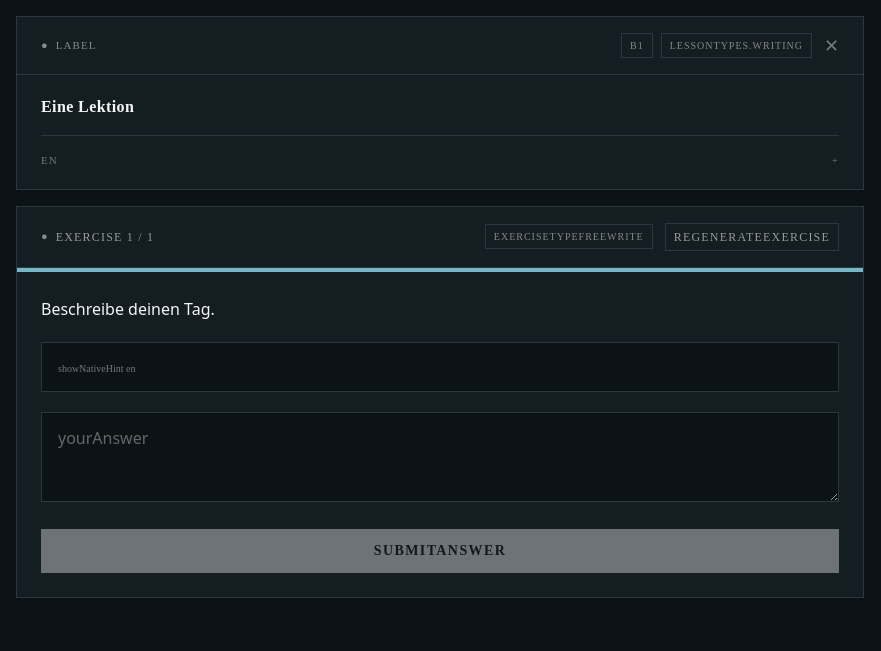
Test: LessonPage lesson loading and answer flow › shows regeneration errors and replaces the exercise after a retry succeeds
Expected: the text "Beschreibe deinen Tag." is shown, x1=41 y1=298 x2=215 y2=320
Type "Meine Antwort" into the text box with placeholder "yourAnswer" at x=440, y=456, box x1=41 y1=412 x2=839 y2=502
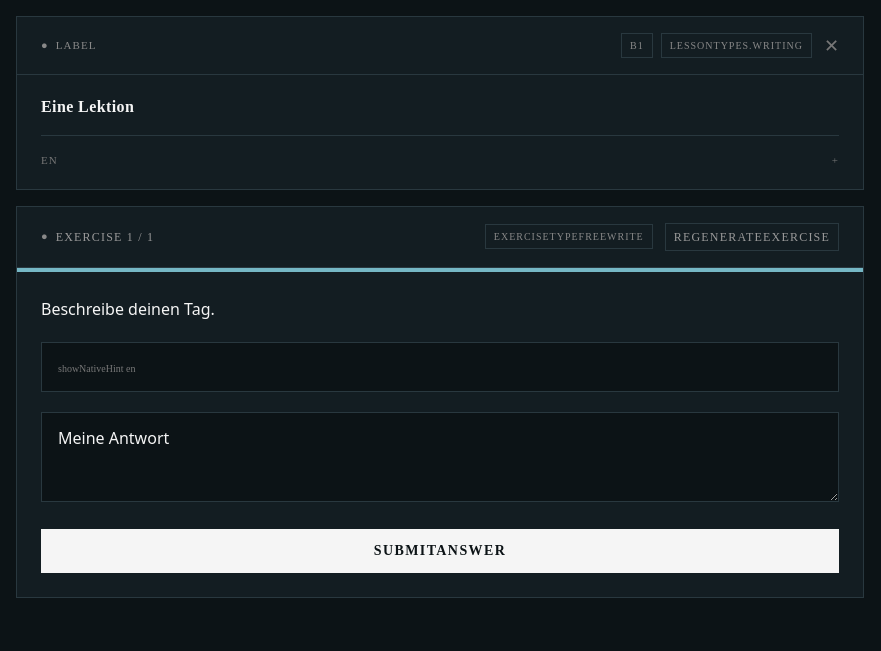
Expected: the button "submitAnswer" is enabled, x1=41 y1=528 x2=839 y2=572
Click the button "regenerateExercise" at x=752, y=236, box x1=665 y1=222 x2=839 y2=250
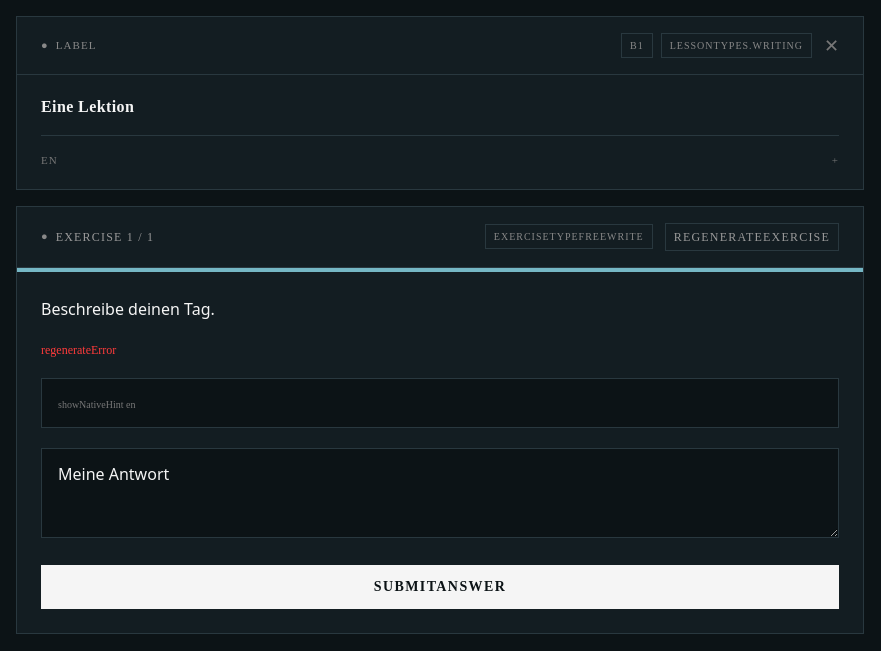
Expected: the text "Beschreibe deinen Tag." is shown, x1=41 y1=298 x2=215 y2=320
Expected: the text "regenerateError" is shown, x1=41 y1=342 x2=116 y2=356
Click the button "regenerateExercise" at x=752, y=236, box x1=665 y1=222 x2=839 y2=250
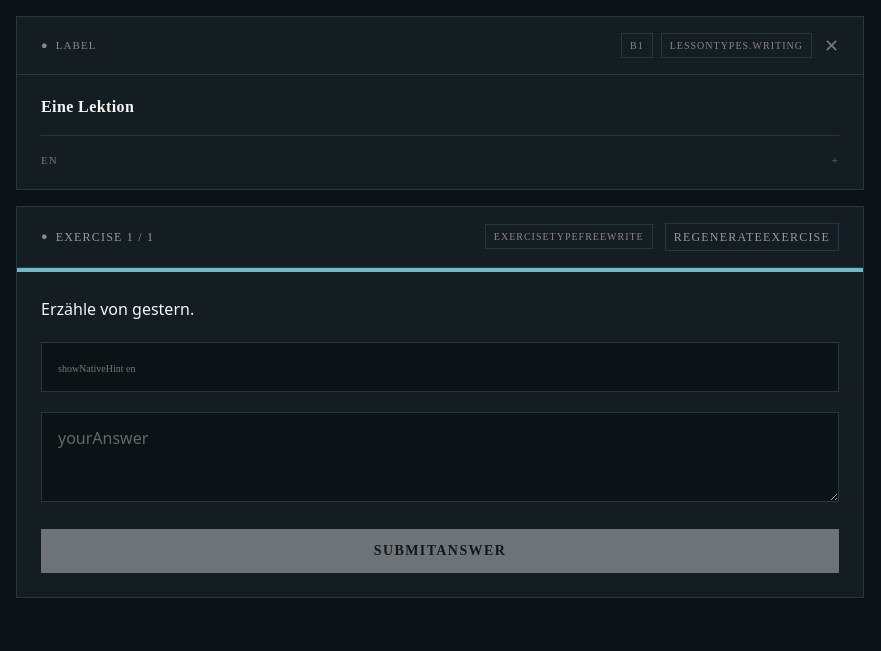
Expected: the text "Erzähle von gestern." is shown, x1=41 y1=298 x2=194 y2=320
Expected: the text box with placeholder "yourAnswer" is empty, x1=41 y1=412 x2=839 y2=502
